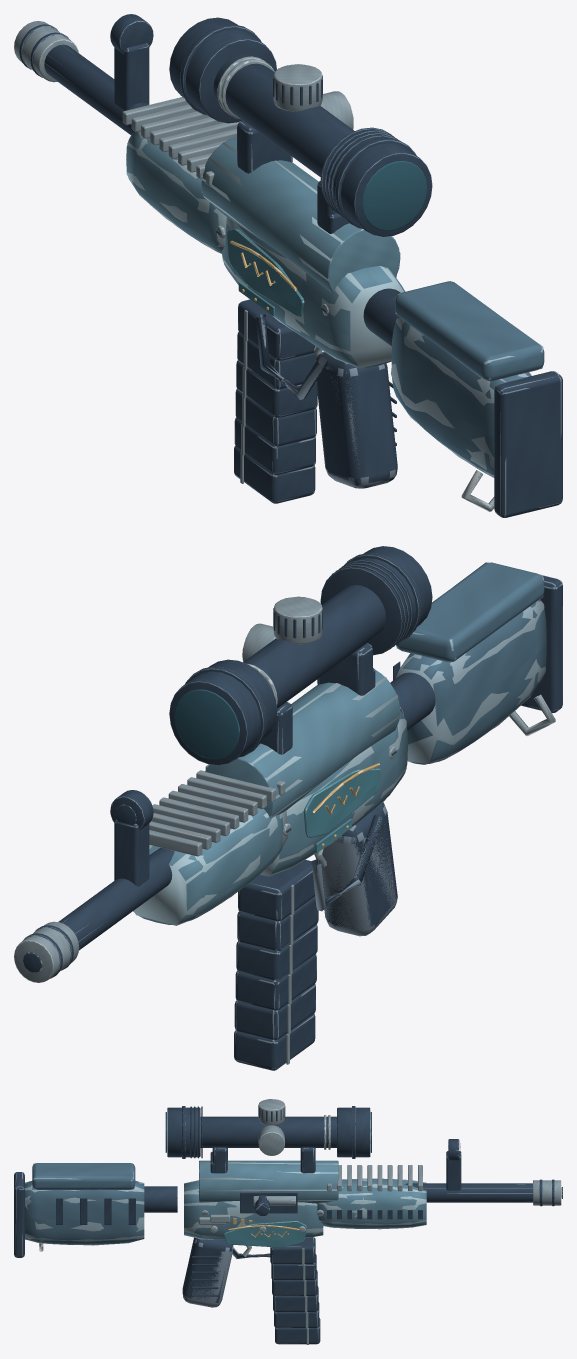
Rendered from anime-sg552.glb.
The picture shows the model from 3 angles, top to bottom: view 1: azimuth 30°, elevation 25°; view 2: azimuth 150°, elevation 25°; view 3: azimuth 270°, elevation 25°; orthographic projection. The views are drawn at different scales.
Parts seen in each view (by area): view 1: weapon_Parkerized steel, weapon_Weapon finish / Parkerized steel, weapon_Polymer, weapon_Weapon finish / Polymer, magazine_Parkerized steel, weapon_Machined edges, World paint, World hardware, weapon_Coated scope glass, weapon_Inset blue ceramic, magazine_Machined edges; view 2: weapon_Parkerized steel, weapon_Weapon finish / Parkerized steel, weapon_Weapon finish / Polymer, magazine_Parkerized steel, weapon_Polymer, weapon_Machined edges, World hardware, World paint, weapon_Coated scope glass, weapon_Inset blue ceramic, magazine_Machined edges; view 3: weapon_Parkerized steel, weapon_Weapon finish / Parkerized steel, weapon_Weapon finish / Polymer, weapon_Polymer, magazine_Parkerized steel, World paint, weapon_Machined edges, World hardware, weapon_Inset blue ceramic, bolt_Machined edges.
Part boxes in pixels (x1=…): weapon_Parkerized steel: x1=44, y1=14, x2=431, y2=445; weapon_Weapon finish / Parkerized steel: x1=126, y1=131, x2=405, y2=367; weapon_Polymer: x1=19, y1=24, x2=562, y2=517; weapon_Weapon finish / Polymer: x1=391, y1=281, x2=544, y2=477; magazine_Parkerized steel: x1=234, y1=299, x2=317, y2=503; weapon_Machined edges: x1=14, y1=21, x2=494, y2=511; World paint: x1=126, y1=131, x2=543, y2=477; World hardware: x1=14, y1=14, x2=562, y2=517; weapon_Coated scope glass: x1=362, y1=160, x2=427, y2=230; weapon_Inset blue ceramic: x1=227, y1=228, x2=304, y2=316; magazine_Machined edges: x1=240, y1=310, x2=247, y2=483; weapon_Parkerized steel: x1=58, y1=546, x2=435, y2=950; weapon_Weapon finish / Parkerized steel: x1=133, y1=669, x2=407, y2=924; weapon_Weapon finish / Polymer: x1=394, y1=562, x2=546, y2=764; magazine_Parkerized steel: x1=234, y1=860, x2=318, y2=1070; weapon_Polymer: x1=23, y1=553, x2=562, y2=978; weapon_Machined edges: x1=14, y1=597, x2=555, y2=982; World hardware: x1=14, y1=546, x2=562, y2=1070; World paint: x1=133, y1=562, x2=545, y2=925; weapon_Coated scope glass: x1=174, y1=689, x2=239, y2=759; weapon_Inset blue ceramic: x1=304, y1=768, x2=380, y2=852; magazine_Machined edges: x1=286, y1=884, x2=294, y2=1064; weapon_Parkerized steel: x1=56, y1=1107, x2=532, y2=1296; weapon_Weapon finish / Parkerized steel: x1=184, y1=1160, x2=426, y2=1239; weapon_Weapon finish / Polymer: x1=25, y1=1163, x2=144, y2=1244; weapon_Polymer: x1=14, y1=1106, x2=562, y2=1307; magazine_Parkerized steel: x1=270, y1=1237, x2=320, y2=1344; World paint: x1=25, y1=1162, x2=426, y2=1245; weapon_Machined edges: x1=39, y1=1099, x2=561, y2=1246; World hardware: x1=14, y1=1099, x2=562, y2=1343; weapon_Inset blue ceramic: x1=224, y1=1221, x2=306, y2=1247; bolt_Machined edges: x1=253, y1=1196, x2=295, y2=1205.
Bounding box in the file's own units: 0.1329 × 0.4275 × 0.905.
Materials: 10 (7 with a texture image).
